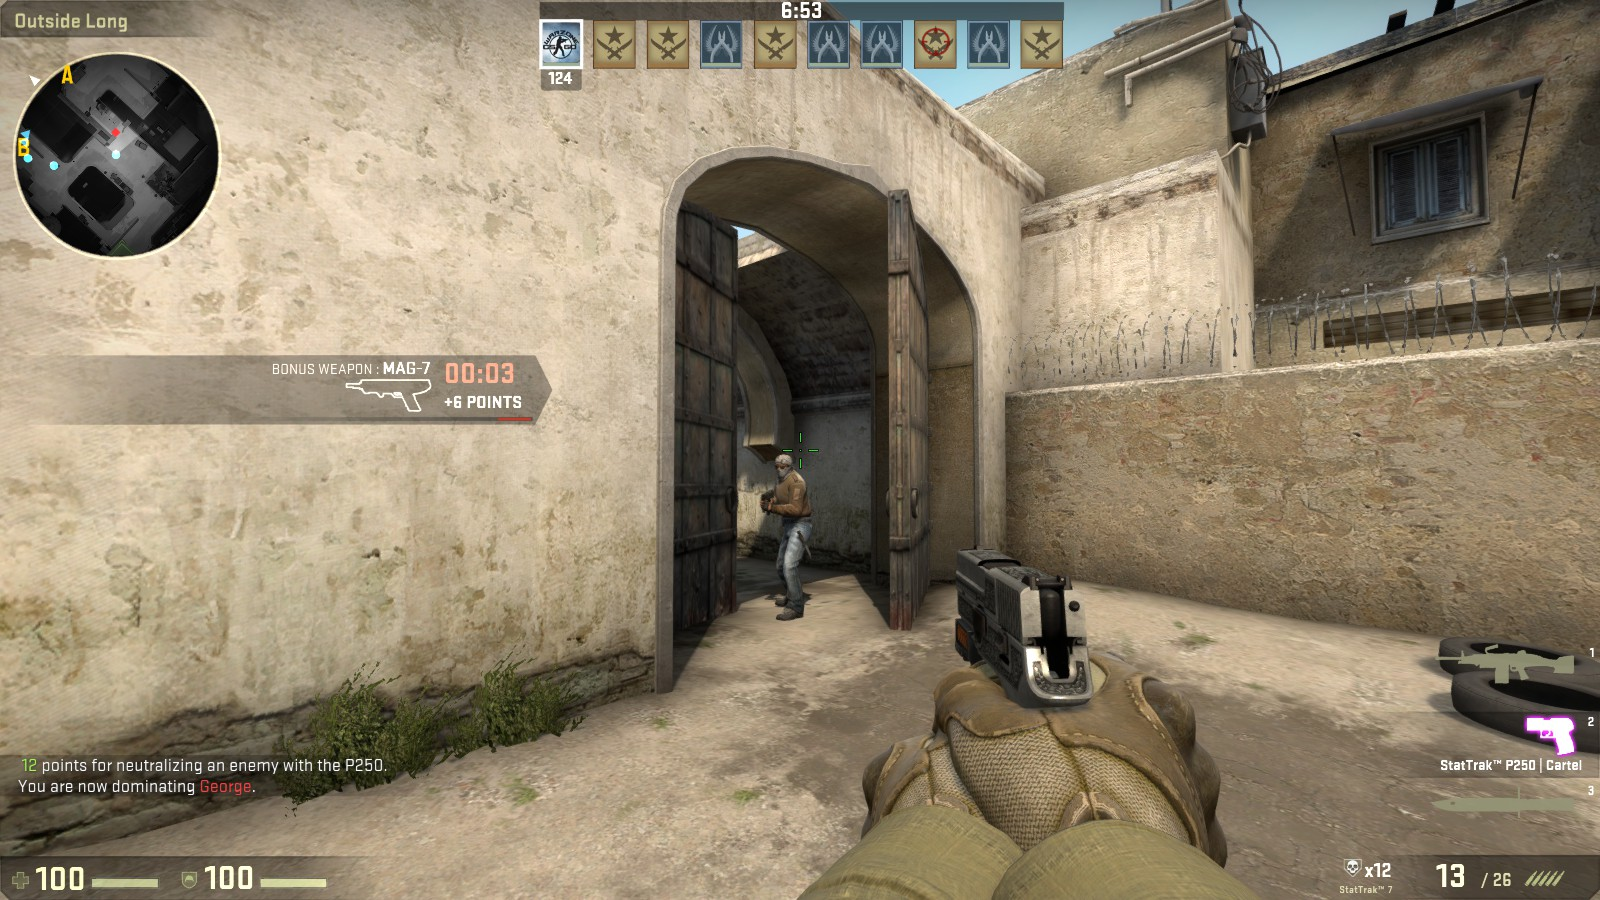t: (765, 452, 813, 622)
th: (773, 453, 795, 481)
